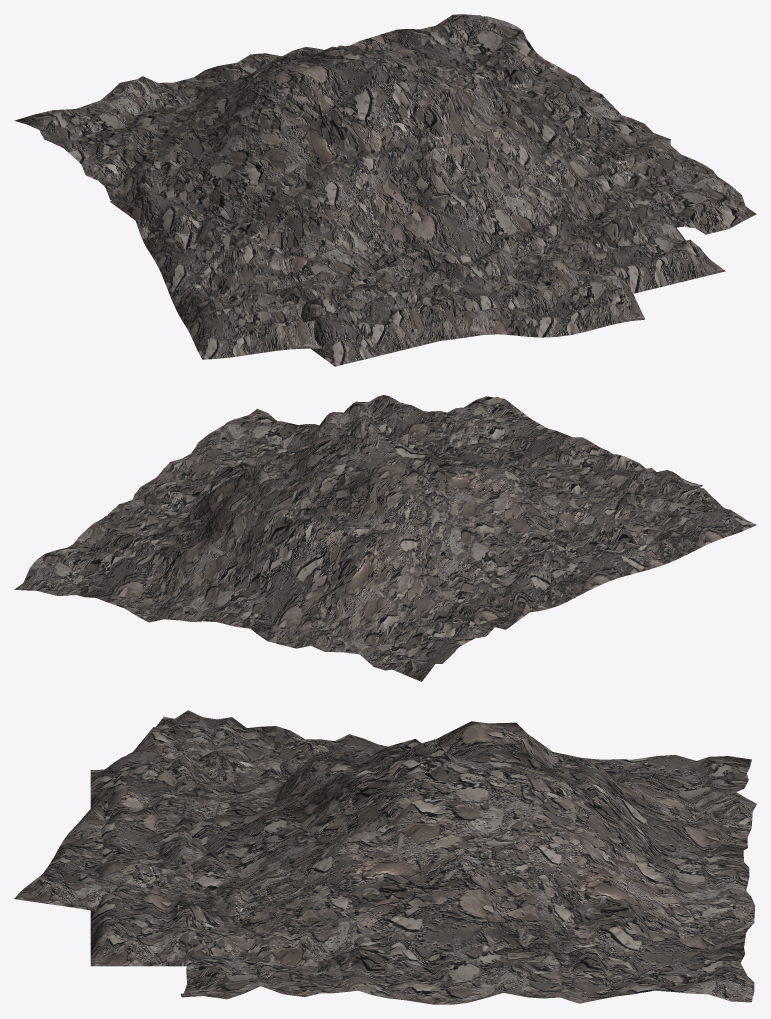
The model's file is RubbleDarker.fbx.
3 renders of one model, top to bottom at view 1: azimuth 30°, elevation 25°; view 2: azimuth 150°, elevation 25°; view 3: azimuth 270°, elevation 25°, orthographic. The views are drawn at different scales.
Parts seen in each view (by area): view 1: RubbleDarker3, RubbleDarker1, RubbleDarker2; view 2: RubbleDarker3, RubbleDarker1, RubbleDarker2; view 3: RubbleDarker3, RubbleDarker2, RubbleDarker1.
Boxes of the visible parts, x1,y1,x2,y2 form: RubbleDarker3: (14, 14, 756, 289); RubbleDarker1: (121, 153, 644, 359); RubbleDarker2: (109, 137, 725, 366); RubbleDarker3: (14, 409, 616, 681); RubbleDarker1: (386, 396, 756, 624); RubbleDarker2: (184, 395, 702, 629); RubbleDarker3: (180, 721, 756, 1004); RubbleDarker2: (90, 749, 535, 966); RubbleDarker1: (14, 710, 387, 921).
Bounding box in the file's own units: 572 × 133 × 624.
